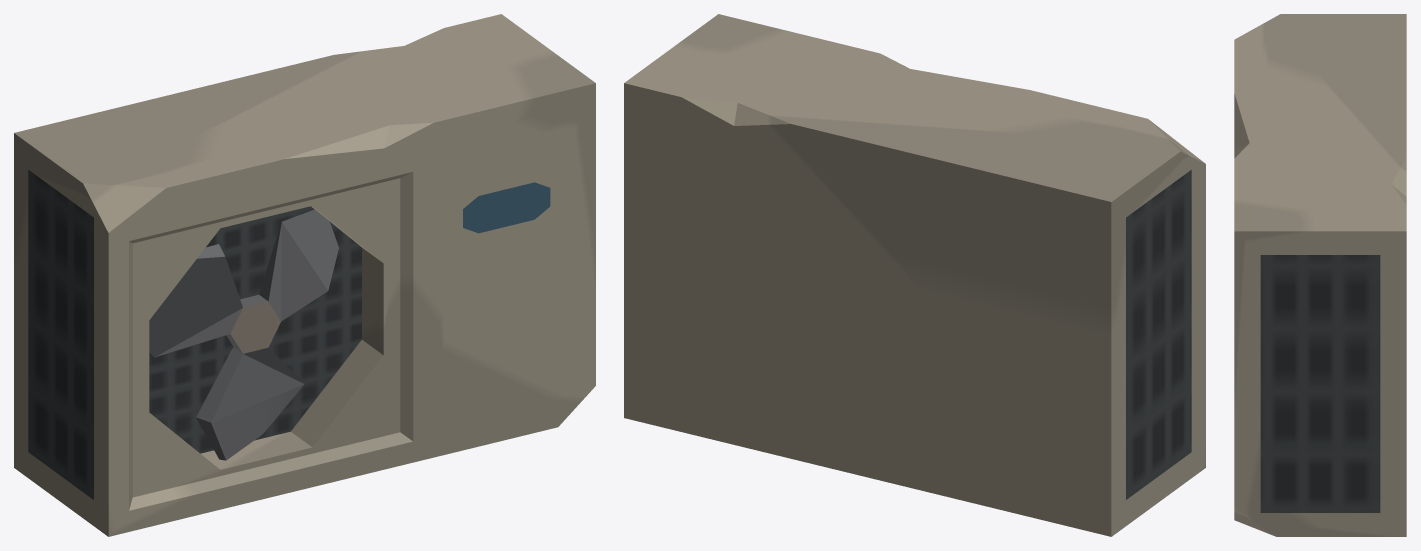
File: SM_Prop_Airconditioner_03.glb
3 renders of one model, left to right at view 1: azimuth 30°, elevation 25°; view 2: azimuth 150°, elevation 25°; view 3: azimuth 270°, elevation 25°, orthographic. The views are drawn at different scales.
Parts seen in each view (by area): view 1: SM_Prop_Airconditioner_03; view 2: SM_Prop_Airconditioner_03; view 3: SM_Prop_Airconditioner_03.
Part boxes in pixels (bbox=[...]): SM_Prop_Airconditioner_03: bbox=[14, 14, 595, 536]; SM_Prop_Airconditioner_03: bbox=[624, 14, 1205, 536]; SM_Prop_Airconditioner_03: bbox=[1234, 14, 1406, 536].
Size of the model in its own units: 1.07 by 0.7052 by 0.3607.
1 material, 1 textured.
